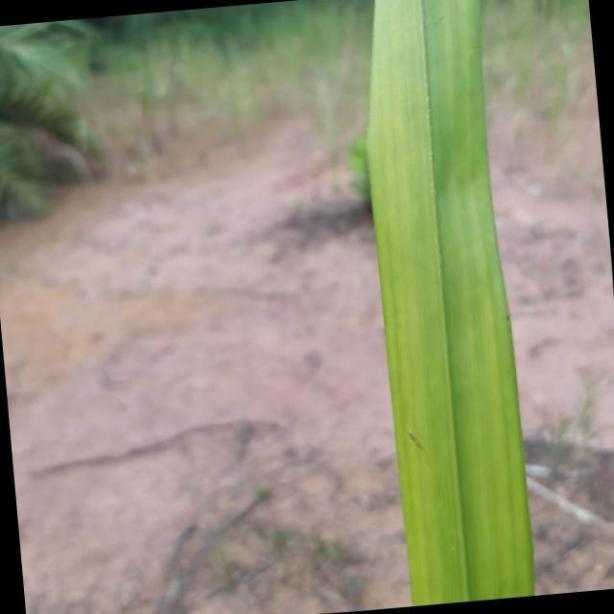nitrogen: (360, 0, 539, 614)
